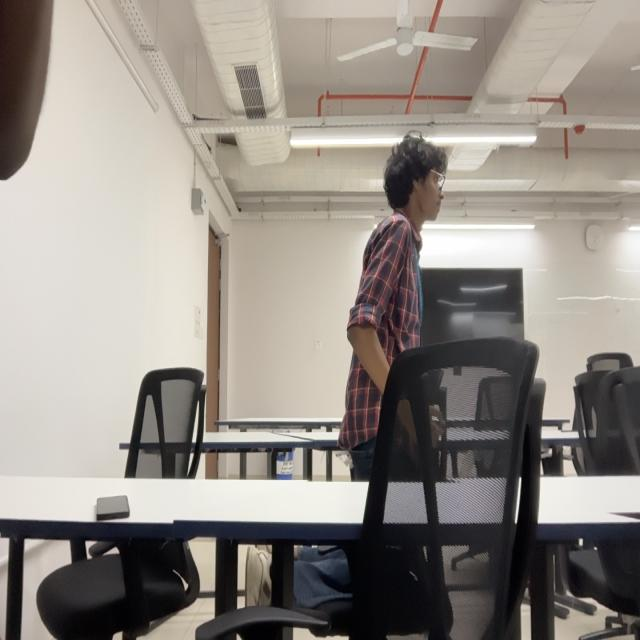darshan: (383, 131, 449, 224)
